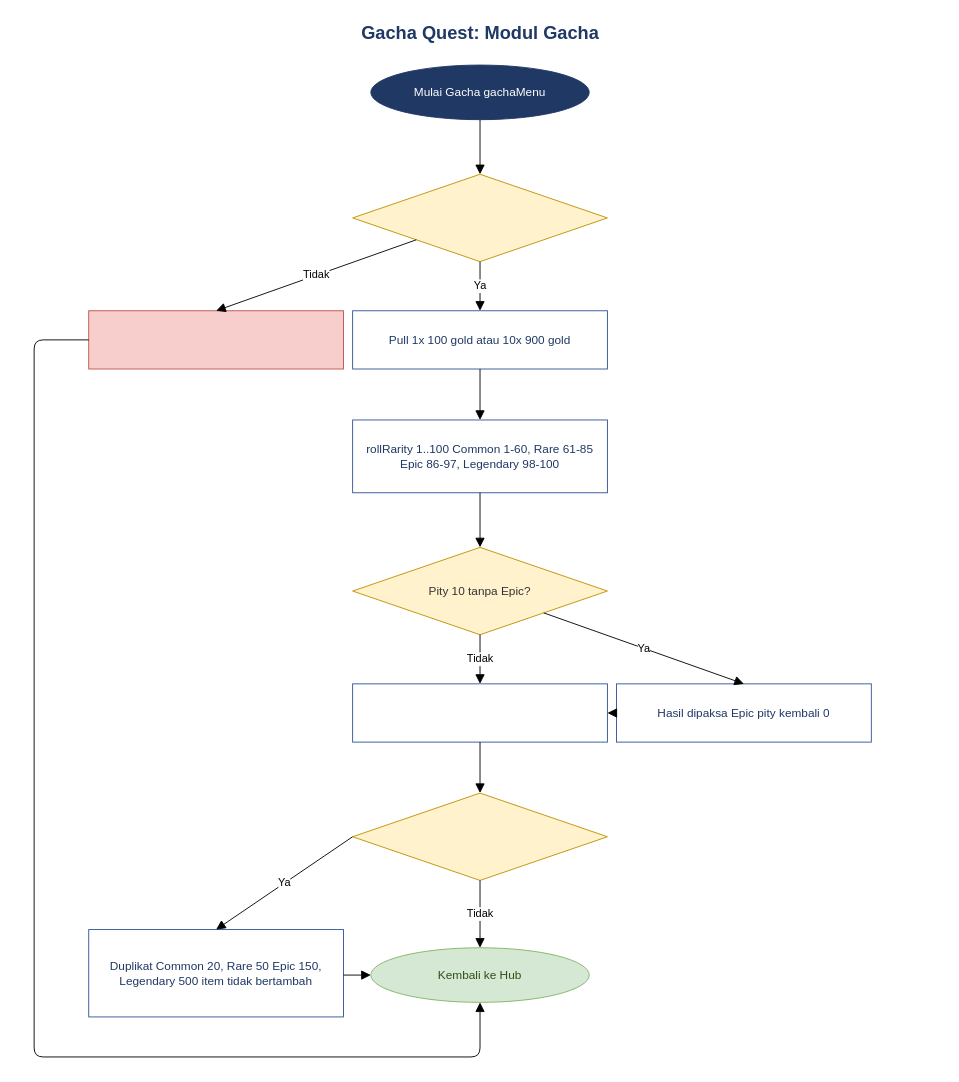
This 959x1082 diagram has some shape labels left out. Each missing label, with the centre of its shape:
"Gold cukup?" belongs at (479,217).
"Pull batal gold tidak berkurang" belongs at (216,339).
"pullOnce tambah item ke tas" belongs at (479,712).
"Tas penuh?" belongs at (479,836).
